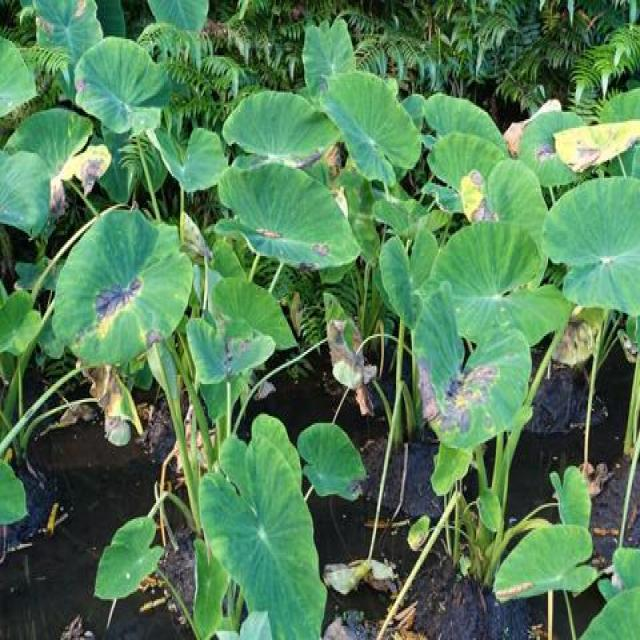blight: (417, 340, 501, 442), (90, 263, 157, 330), (41, 148, 110, 209)
